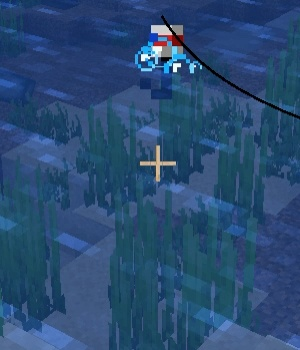up: (141, 18, 189, 101)
